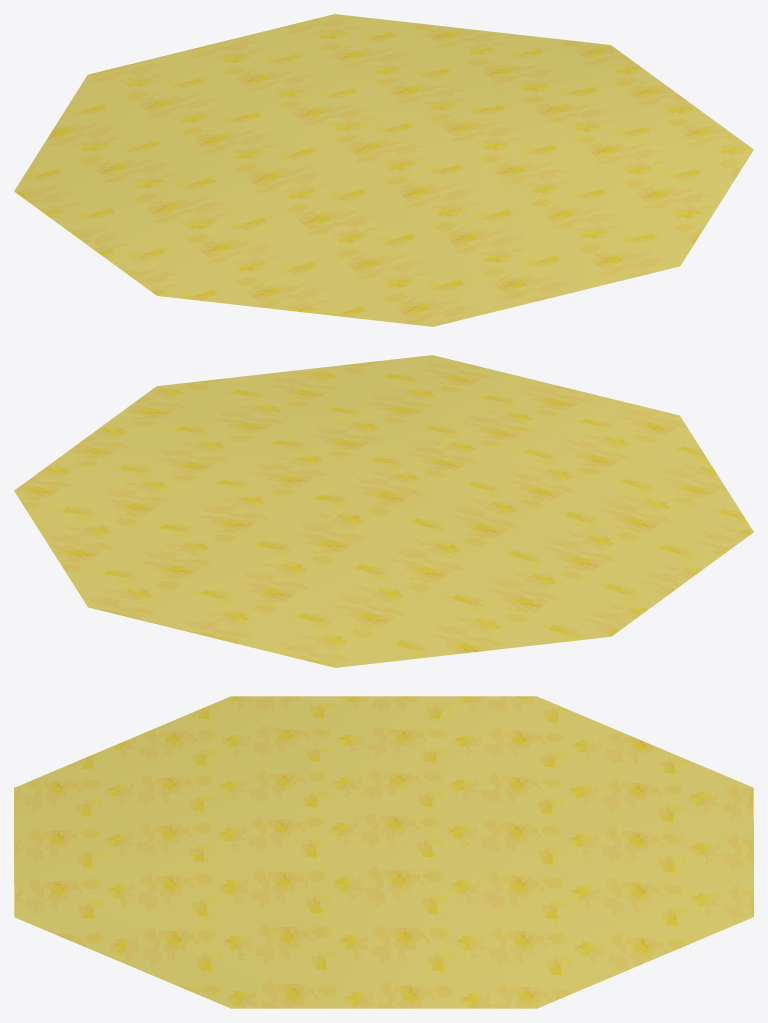
File: 1101item572.gltf
3 views of the same model, one above another, from view 1: azimuth 30°, elevation 25°; view 2: azimuth 150°, elevation 25°; view 3: azimuth 270°, elevation 25° (orthographic). The views are drawn at different scales.
Visible parts, largest first — view 1: 1101item572; view 2: 1101item572; view 3: 1101item572.
Boxes of the visible parts, x1,y1,x2,y2 form: 1101item572: [14, 14, 753, 326]; 1101item572: [14, 355, 753, 667]; 1101item572: [14, 696, 753, 1008].
Size of the model in its own units: 0.5031 by 0.0186 by 0.5031.
Materials: 1 (1 with a texture image).
